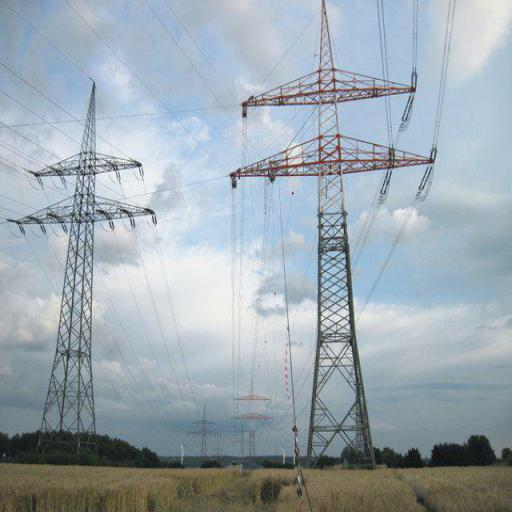ss_2: (228, 0, 436, 471), (16, 79, 155, 460), (233, 378, 274, 458), (188, 400, 222, 459)
